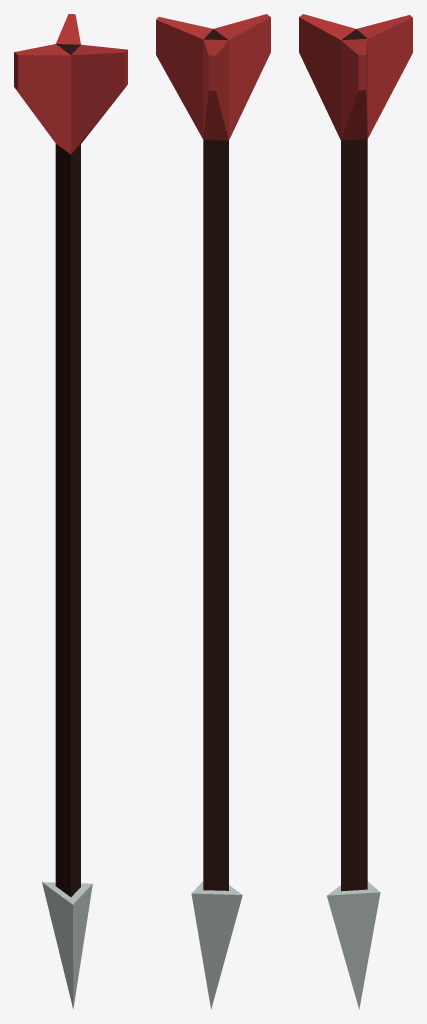
File: arrow.glb
The picture shows the model from 3 angles, left to right: view 1: azimuth 30°, elevation 25°; view 2: azimuth 210°, elevation 25°; view 3: azimuth 330°, elevation 25°; orthographic projection.
Parts seen in each view (by area): view 1: Object_2; view 2: Object_2; view 3: Object_2.
Boxes of the visible parts, left/top/right/bottom form: Object_2: left=14, top=14, right=127, bottom=1008; Object_2: left=156, top=14, right=270, bottom=1009; Object_2: left=299, top=14, right=412, bottom=1009.
Bounding box in the file's own units: 0.0603 × 0.636 × 0.0638.
Materials: 1 (1 with a texture image).
